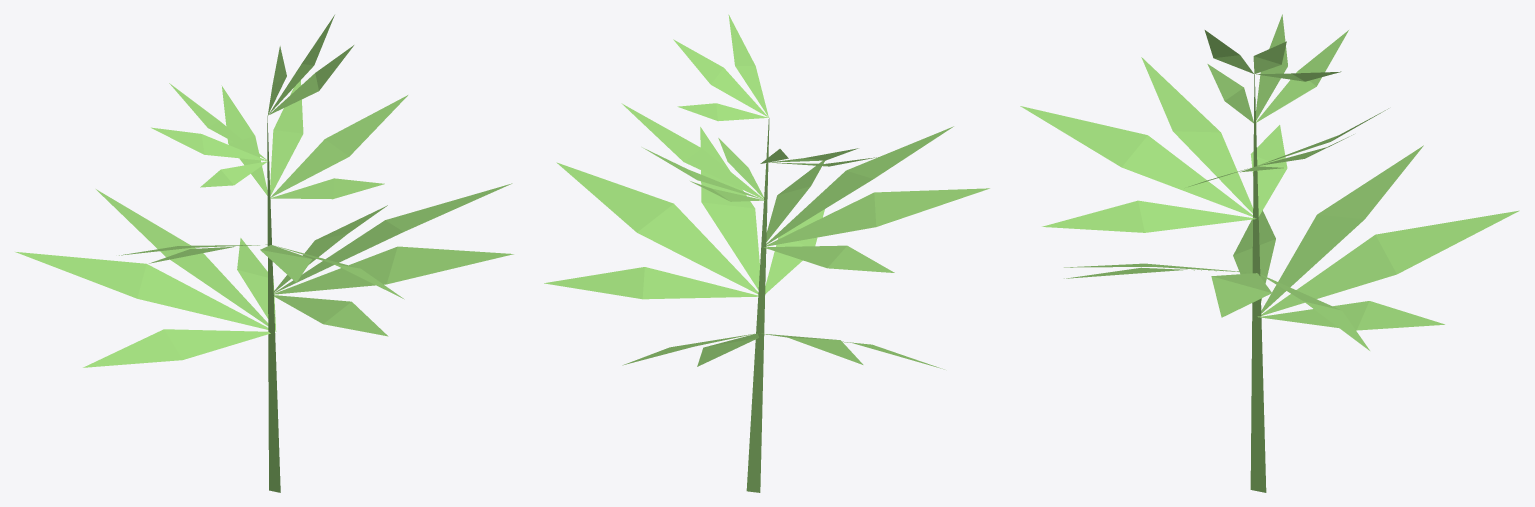
Rendered from Plant_i_OneS_05.fbx.
3 renders of one model, left to right at view 1: azimuth 30°, elevation 25°; view 2: azimuth 150°, elevation 25°; view 3: azimuth 270°, elevation 25°, orthographic. The views are drawn at different scales.
Parts seen in each view (by area): view 1: Plant_i_OneS_05; view 2: Plant_i_OneS_05; view 3: Plant_i_OneS_05.
Boxes of the visible parts, bbox=[...] form: Plant_i_OneS_05: bbox=[15, 15, 513, 492]; Plant_i_OneS_05: bbox=[544, 14, 989, 492]; Plant_i_OneS_05: bbox=[1020, 14, 1519, 492].
Size of the model in its own units: 0.259 by 0.2699 by 0.2511.
